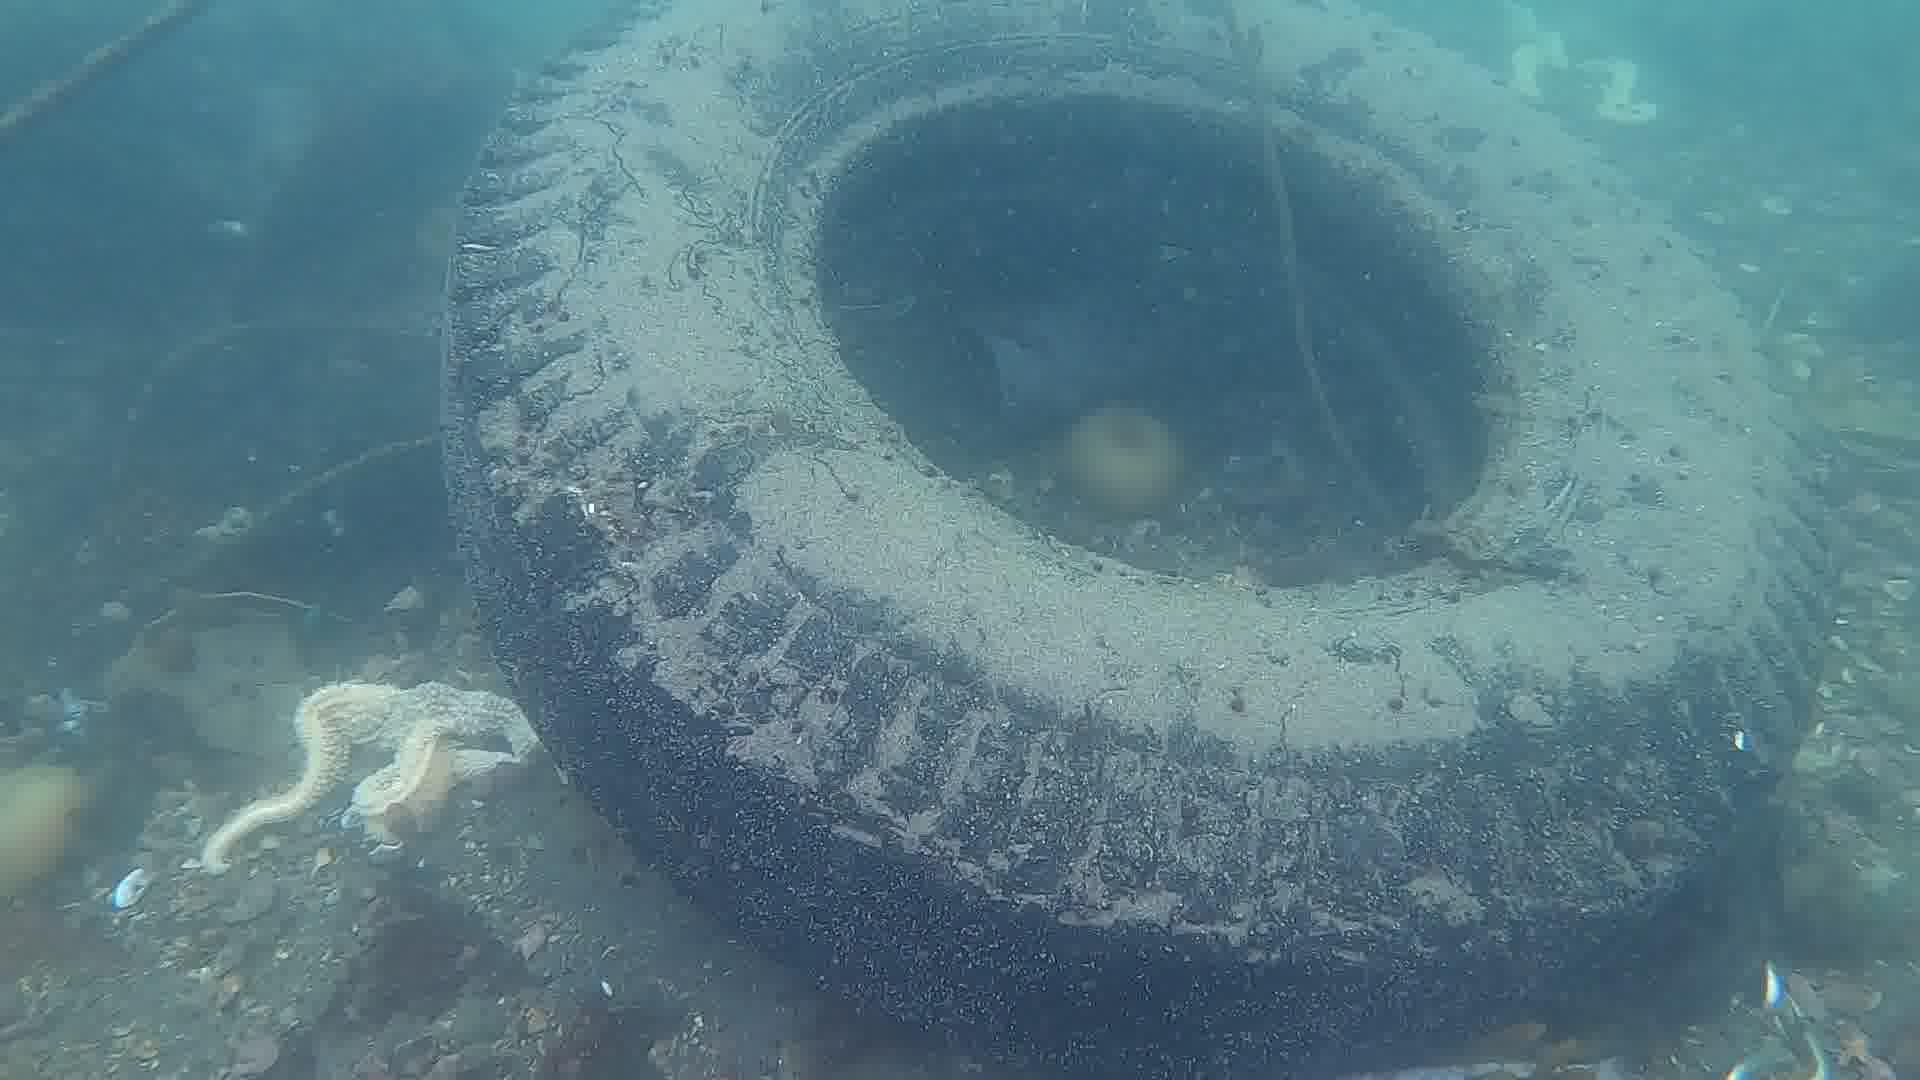tire: (433, 0, 1847, 1064)
